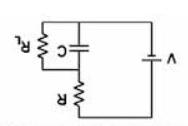Capacitor: (65, 37, 92, 59)
